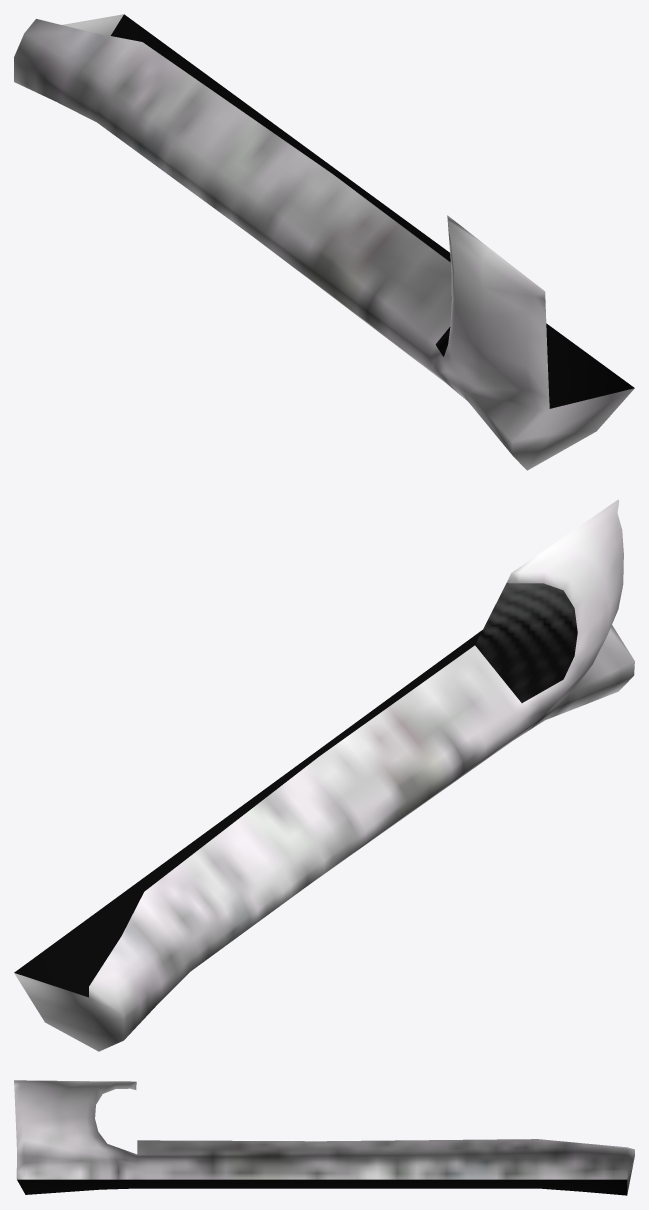
3 views of the same model, one above another, from view 1: azimuth 30°, elevation 25°; view 2: azimuth 150°, elevation 25°; view 3: azimuth 270°, elevation 25° (orthographic). The views are drawn at different scales.
Visible parts, largest first — view 1: wg_l_c_l; view 2: wg_l_c_l; view 3: wg_l_c_l.
Boxes of the visible parts, x1,y1,x2,y2 form: wg_l_c_l: [14, 14, 634, 470]; wg_l_c_l: [14, 499, 634, 1051]; wg_l_c_l: [14, 1080, 634, 1195].
Bounding box in the file's own units: 0.291 × 0.4141 × 2.12.
Materials: 3 (2 with a texture image).
